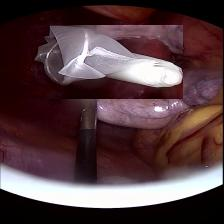Grasper: (76, 94, 102, 130)
Specimen Bag: (31, 24, 183, 98)
